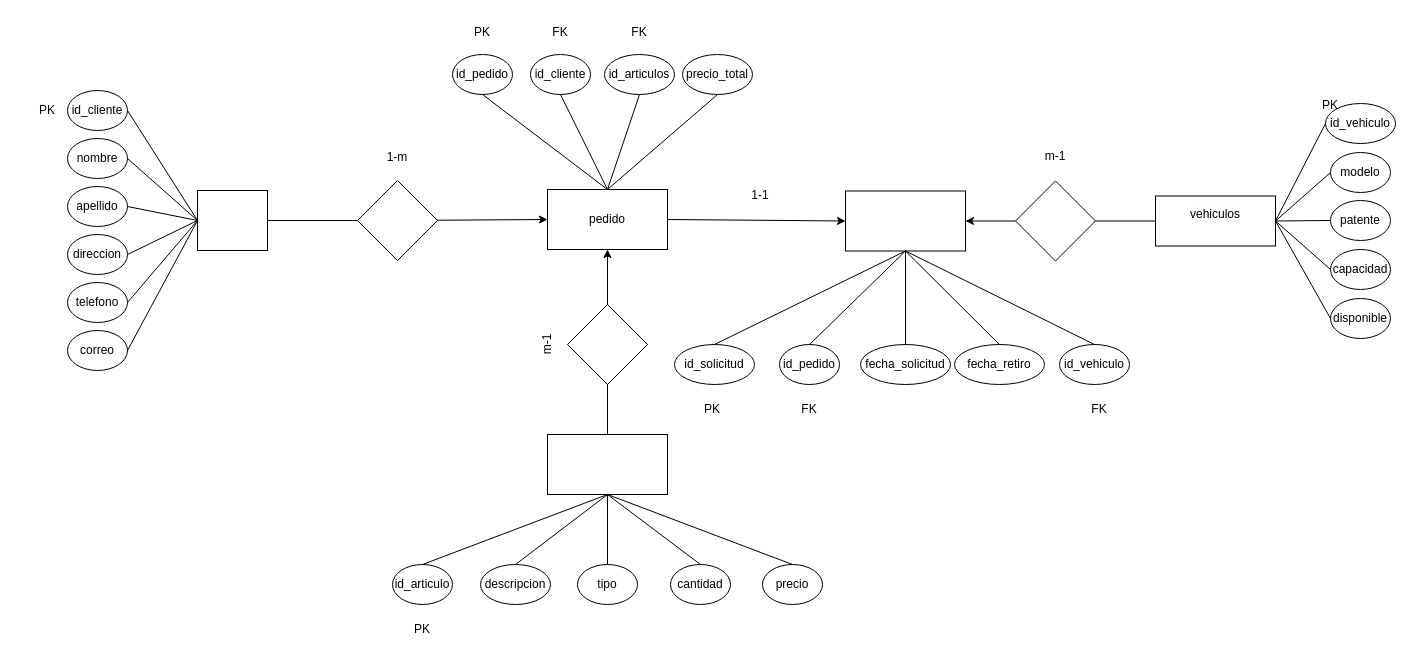
The diagram is 1413 pixels wide and 662 high, and some of its shapes have lost their labels. The box of each missing label's shape, as (x1, y1, x2, y2) in pixels:
articulos: (546, 434, 668, 494)
clientes: (196, 190, 268, 250)
conforman: (566, 304, 648, 384)
realiza: (356, 180, 438, 260)
realizan: (1014, 180, 1096, 261)
solicitudes: (844, 190, 966, 251)
